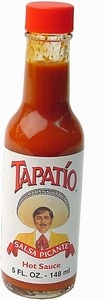grozi_44: (0, 2, 83, 300)
